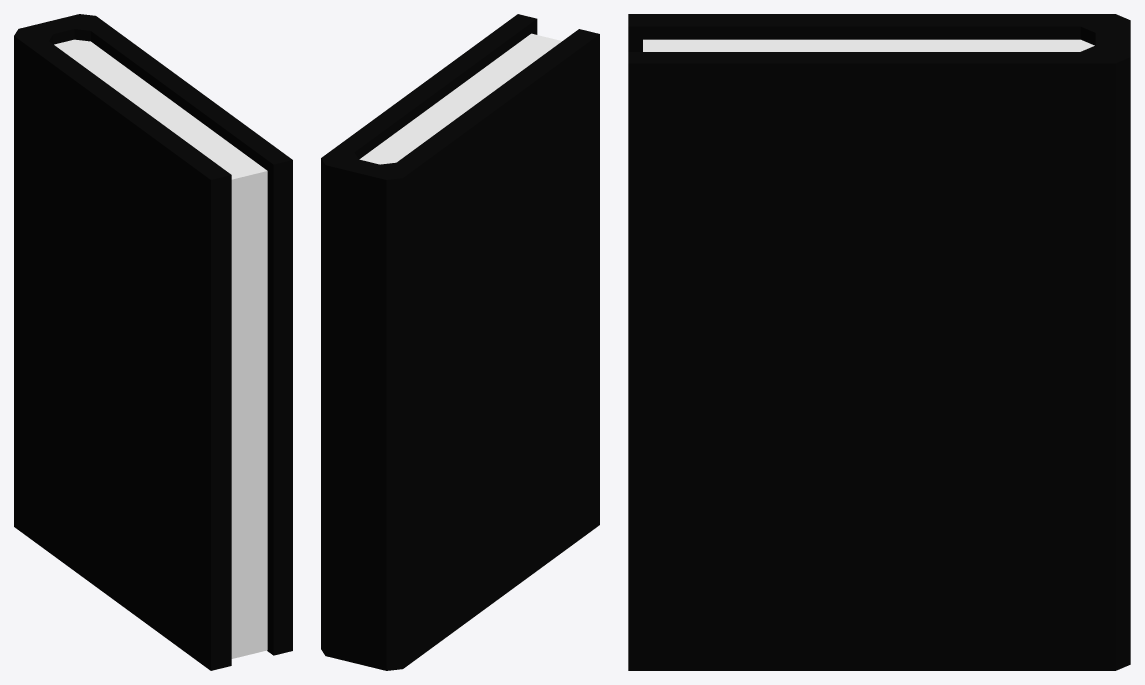
The model's file is Libro12.fbx.
3 views of the same model, side by side, from view 1: azimuth 30°, elevation 25°; view 2: azimuth 150°, elevation 25°; view 3: azimuth 270°, elevation 25° (orthographic). The views are drawn at different scales.
Visible parts, largest first — view 1: Libro12; view 2: Libro12; view 3: Libro12.
Part boxes in pixels (x1=…): Libro12: x1=14, y1=14, x2=292, y2=670; Libro12: x1=321, y1=14, x2=599, y2=670; Libro12: x1=628, y1=14, x2=1130, y2=670.
Bounding box in the file's own units: 0.0328 × 0.1876 × 0.1405.
